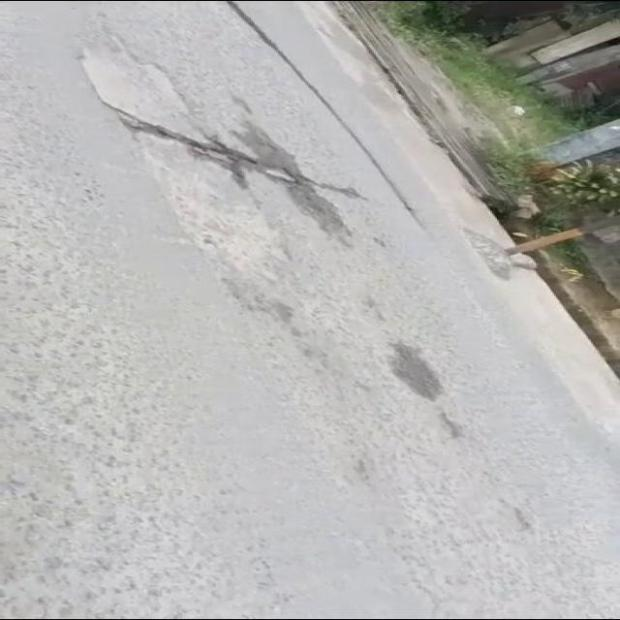lubang: (109, 107, 366, 200)
